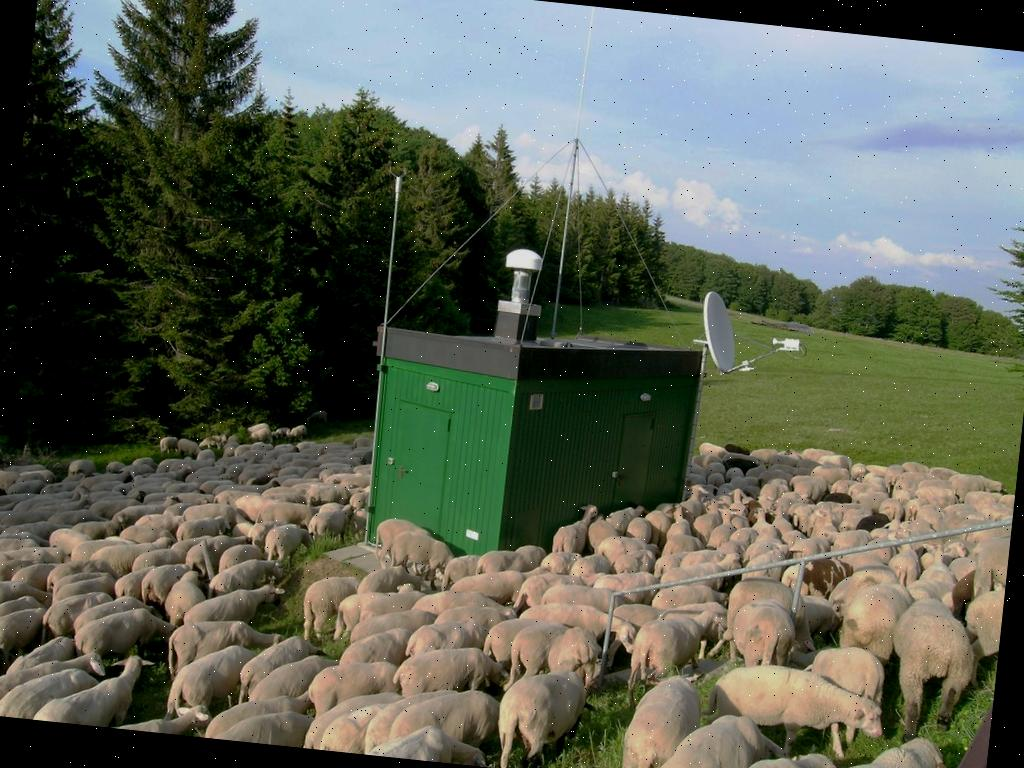Sheep: (707, 658, 888, 762), (493, 661, 590, 768), (379, 682, 502, 765), (162, 640, 262, 730), (624, 610, 710, 711), (68, 602, 174, 680), (486, 615, 580, 699), (305, 651, 404, 726), (834, 578, 914, 666), (0, 639, 81, 722), (726, 594, 806, 676), (336, 584, 432, 648), (182, 579, 284, 636), (298, 572, 360, 648), (382, 528, 452, 589), (444, 564, 522, 610), (0, 601, 51, 661), (658, 557, 730, 595), (550, 502, 596, 559), (262, 520, 314, 570), (112, 562, 165, 606), (306, 504, 356, 550), (604, 566, 660, 600), (236, 518, 274, 552)
